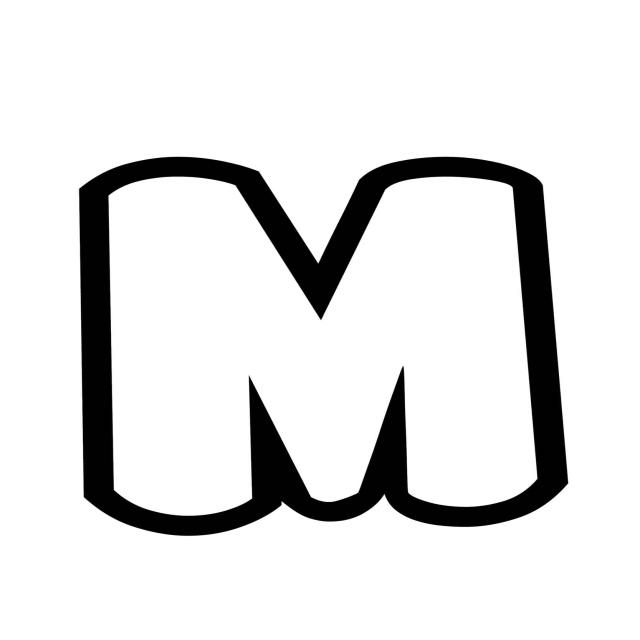M: (19, 91, 603, 576)
